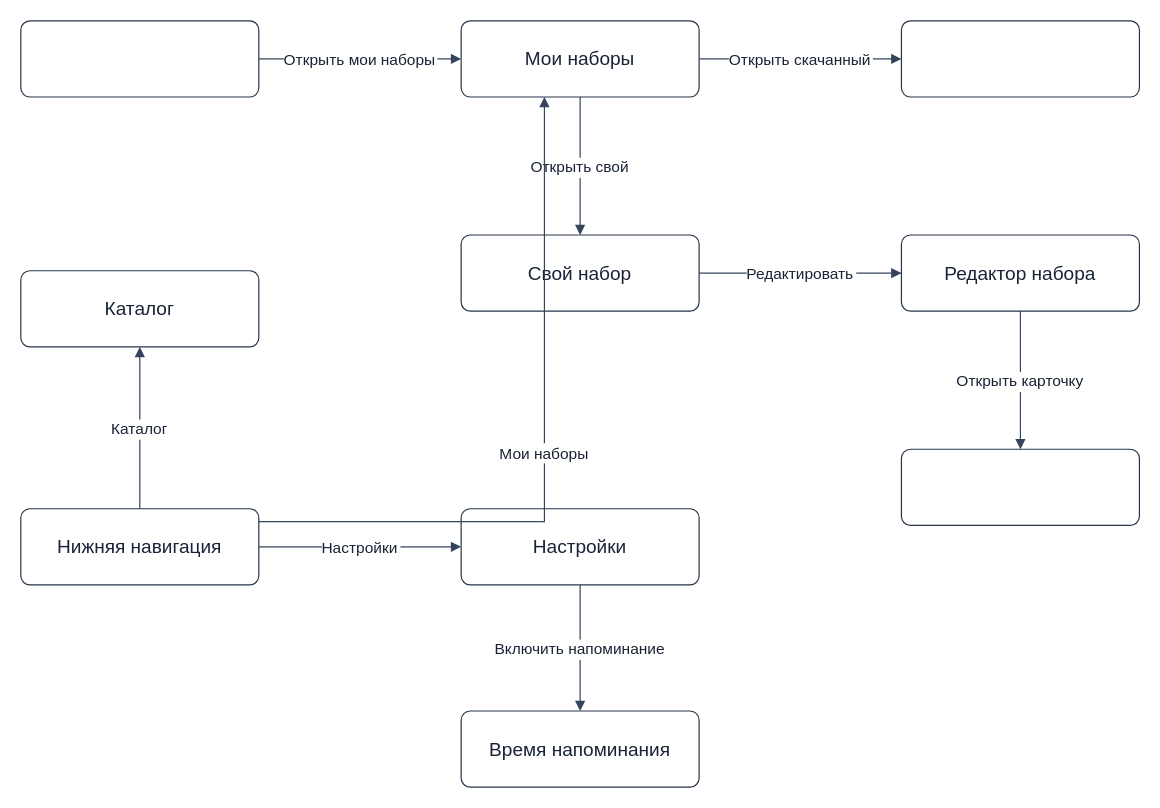
The diagram is 1160 pixels wide and 808 high, and some of its shapes have lost their labels. Each missing label, with the centre of its shape:
"Каталог · офлайн" belongs at pixel 139 58.
"Редактор карточки" belongs at pixel 1019 486.
"Скачанный набор" belongs at pixel 1019 58.
